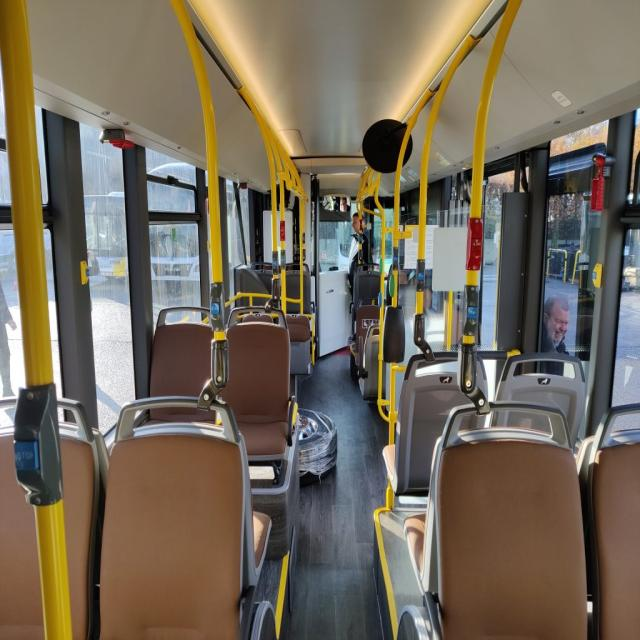empty-seat-frontal: (211, 306, 293, 466)
